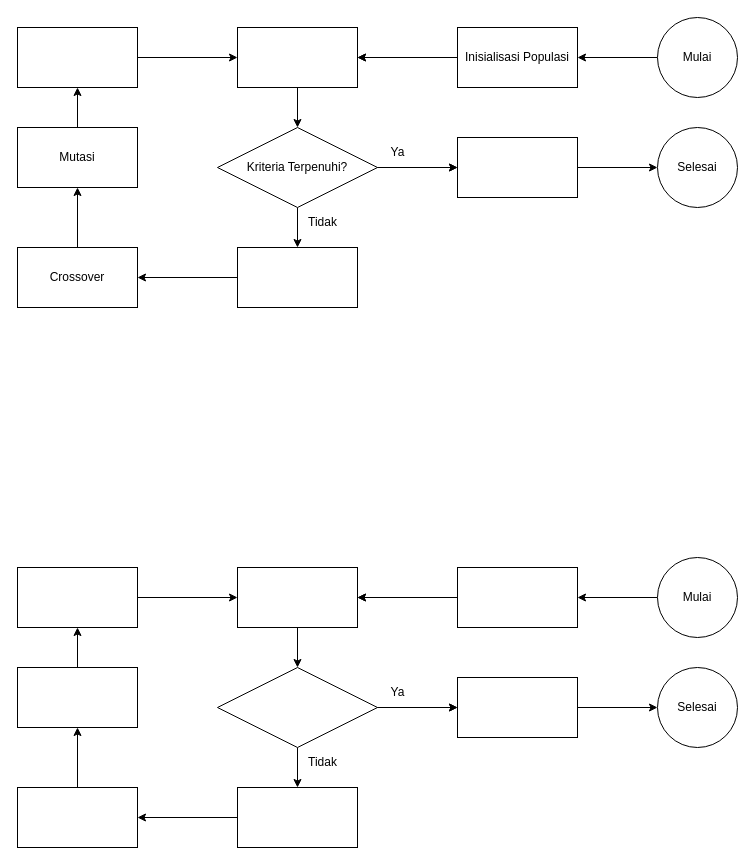
This 755x865 diagram has some shape labels left out. The shapes that lost their labels are listed below. From the top down, each one's box as (x1, y1, x2, y2) in pixels, then its label:
(16, 26, 138, 88): Buat Populasi Baru
(236, 26, 358, 88): Evaluasi Fitness
(456, 136, 578, 198): Best Chromosome
(236, 246, 358, 308): Seleksi
